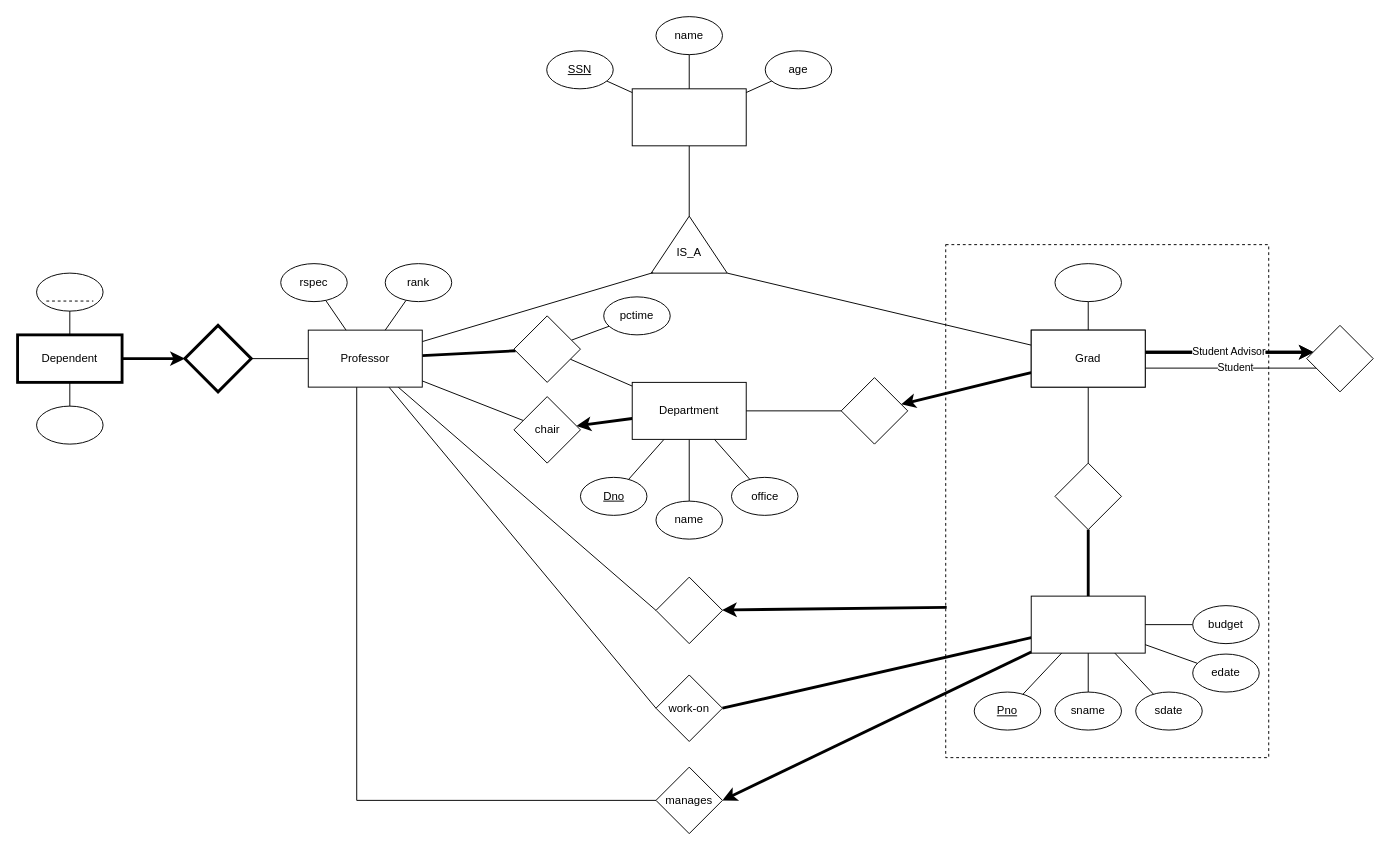
The diagram is 1390 pixels wide and 850 high, and some of its shapes have lost their labels. The centre of each missing label's shape, as x and y in pixels:
advise: (x=1339, y=358)
Bdate: (x=69, y=424)
dname: (x=69, y=291)
dprog: (x=1087, y=282)
major: (x=874, y=410)
Member: (x=688, y=117)
policy: (x=217, y=358)
Project: (x=1087, y=624)
supervise: (x=688, y=610)
work-for: (x=546, y=348)
work-in: (x=1087, y=496)
